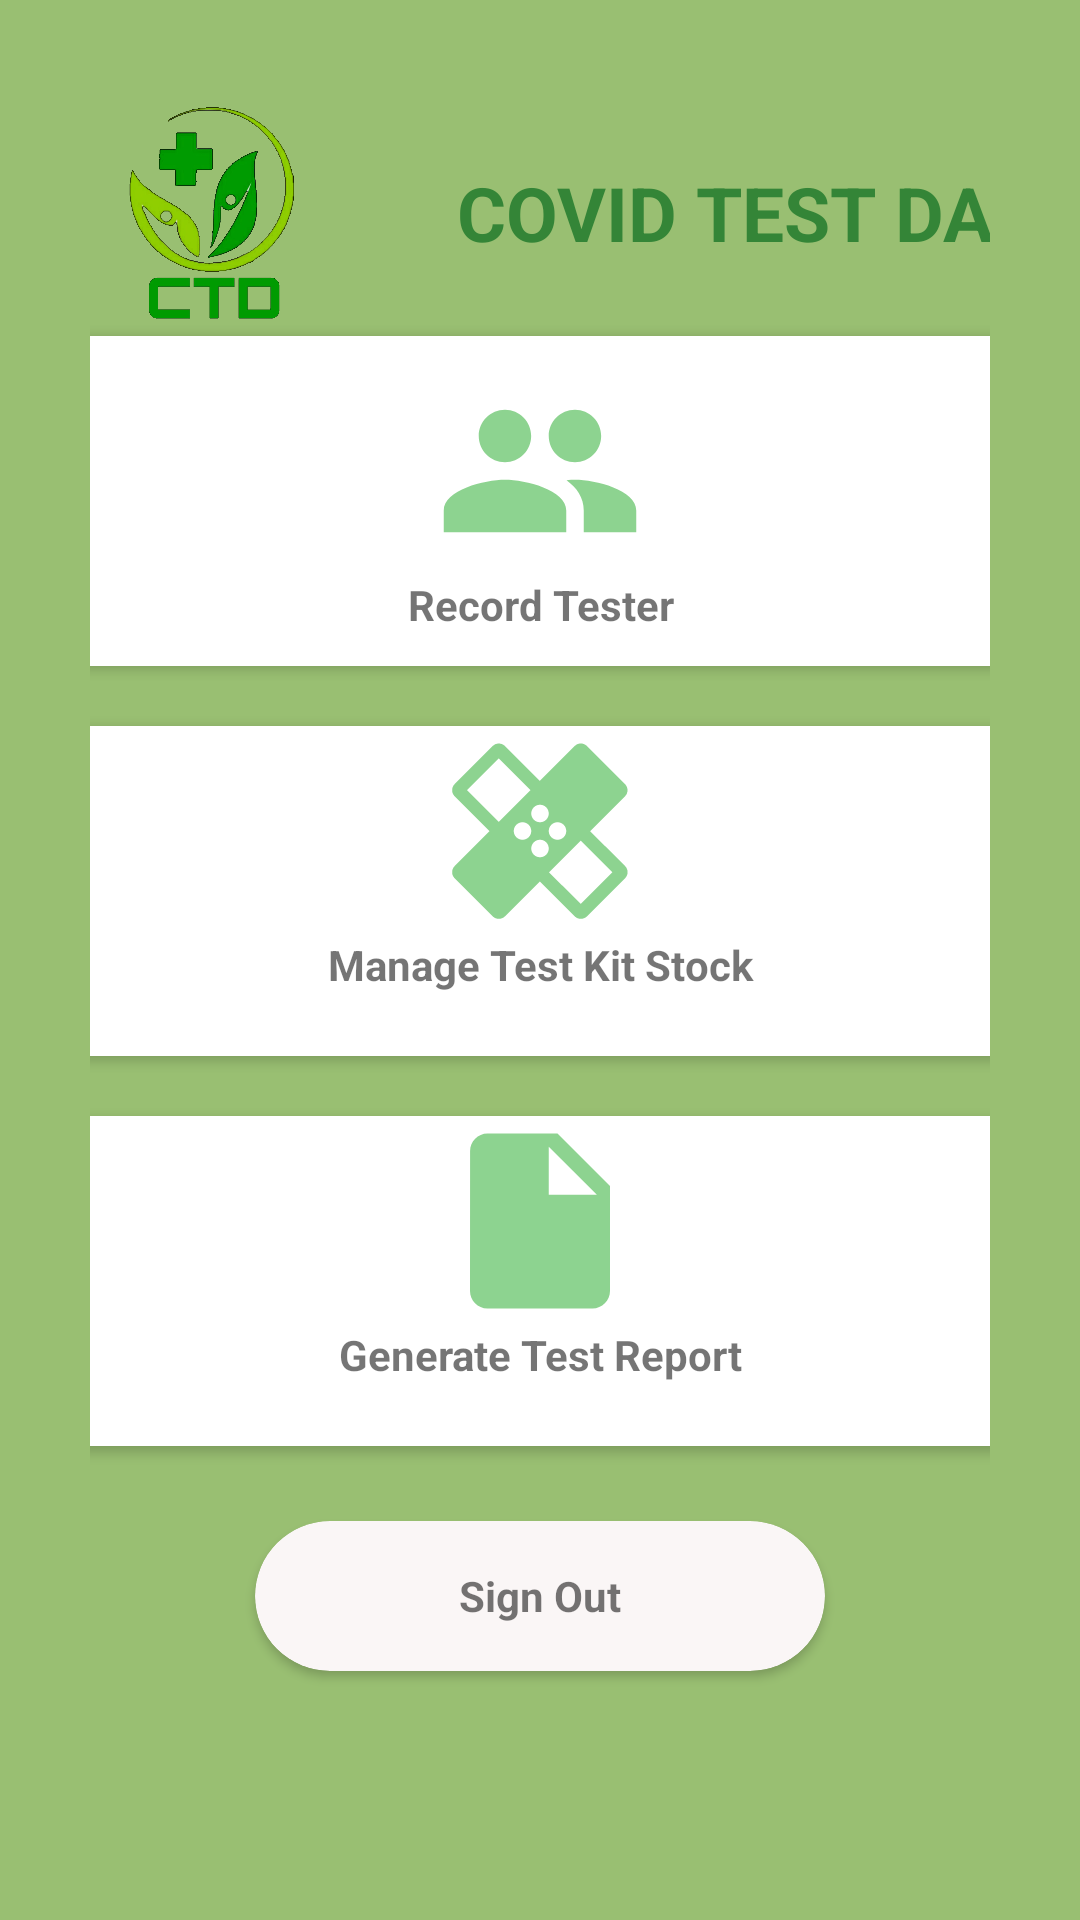

Icon click points for this 1080px×1920px phone screenshot, format (x=x, y=y):
insert drive file: (x=540, y=1221)
